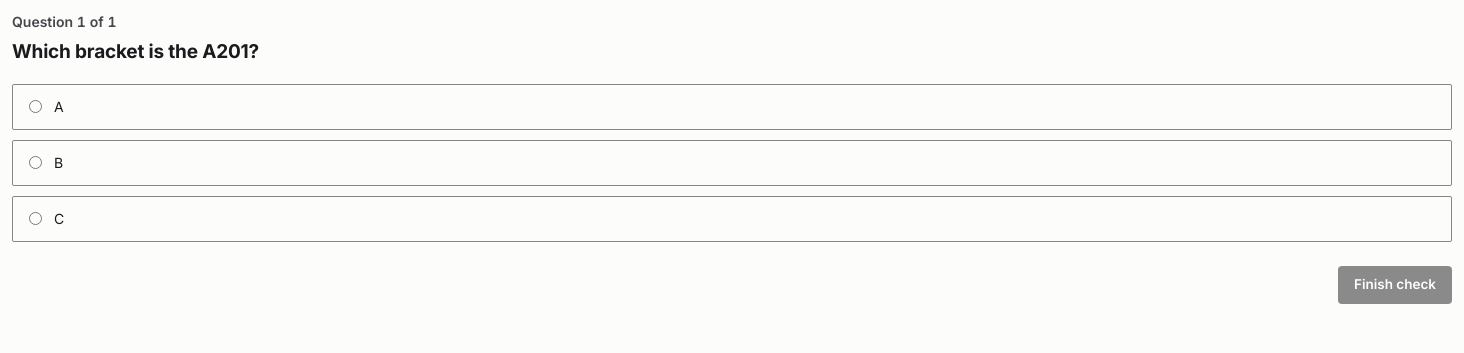
Test: QuizForm interaction model › a returned { error } is shown and no navigation happens
Click the radio button labelled "A".
click(36, 107)  # box x1=29 y1=100 x2=42 y2=113
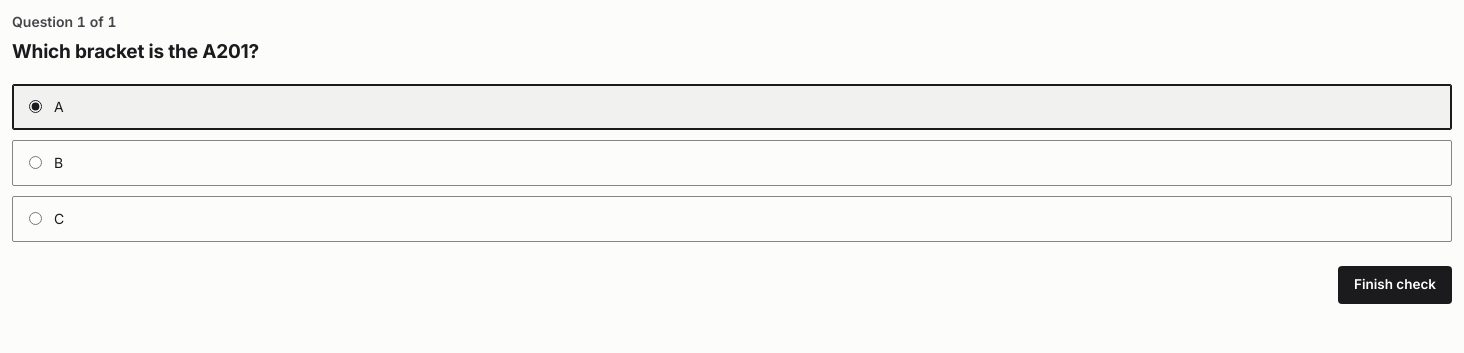
Click the button "Finish check".
click(1395, 285)  # box x1=1338 y1=266 x2=1452 y2=304
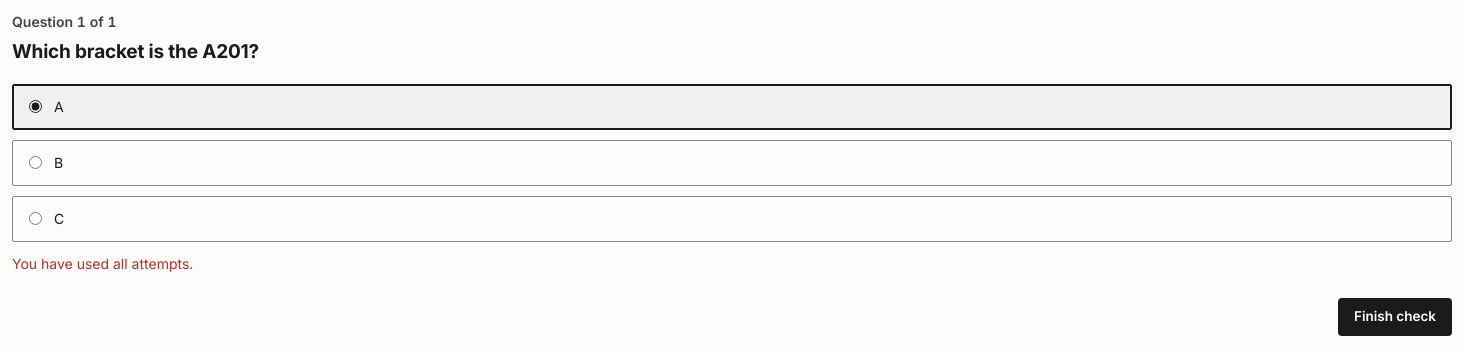
Expected: the text "You have used all attempts." is shown, x1=12 y1=255 x2=193 y2=272
